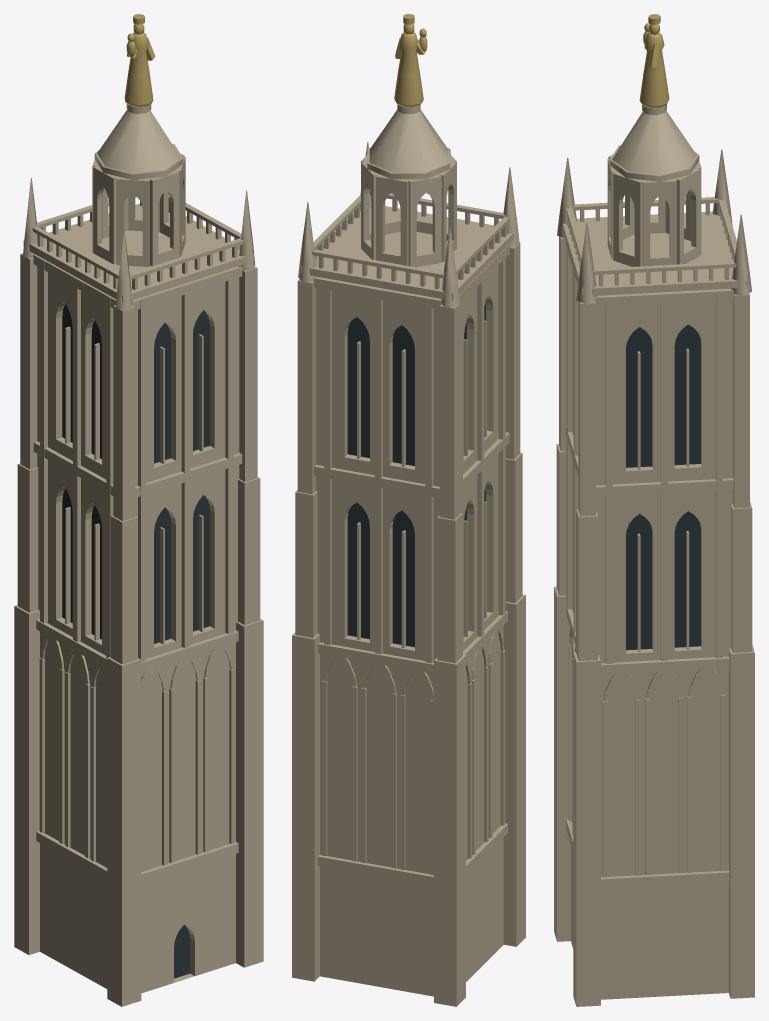
The model's file is tour-pey-berland-far.glb.
3 renders of one model, left to right at view 1: azimuth 30°, elevation 25°; view 2: azimuth 150°, elevation 25°; view 3: azimuth 270°, elevation 25°, orthographic.
Visible parts, largest first — view 1: tour-pey-berland-0-plaster, tour-pey-berland-0-shadow, tour-pey-berland-0-gold; view 2: tour-pey-berland-0-plaster, tour-pey-berland-0-shadow, tour-pey-berland-0-gold; view 3: tour-pey-berland-0-plaster, tour-pey-berland-0-shadow, tour-pey-berland-0-gold.
Boxes of the visible parts, box(x1,y1,x2,y2) form: tour-pey-berland-0-plaster: box(14, 104, 263, 1006); tour-pey-berland-0-shadow: box(62, 304, 209, 978); tour-pey-berland-0-gold: box(124, 14, 155, 107); tour-pey-berland-0-plaster: box(292, 104, 525, 1006); tour-pey-berland-0-shadow: box(347, 303, 485, 647); tour-pey-berland-0-gold: box(394, 14, 427, 107); tour-pey-berland-0-plaster: box(554, 104, 754, 1006); tour-pey-berland-0-shadow: box(626, 324, 700, 650); tour-pey-berland-0-gold: box(639, 14, 669, 108).
Bounding box in the file's own units: 12.68 × 66 × 12.68.
